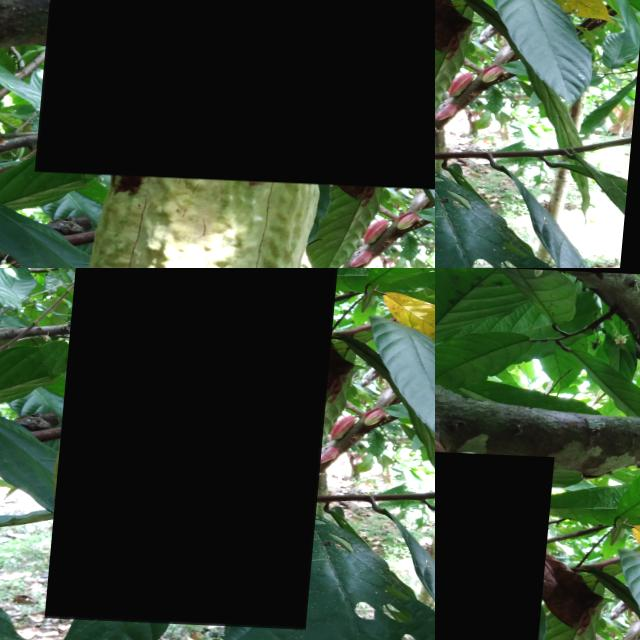Fitoftora: (55, 268, 346, 625), (435, 445, 558, 640), (435, 90, 513, 160)
Monilia: (41, 0, 435, 188)
Sana: (435, 0, 595, 127)
